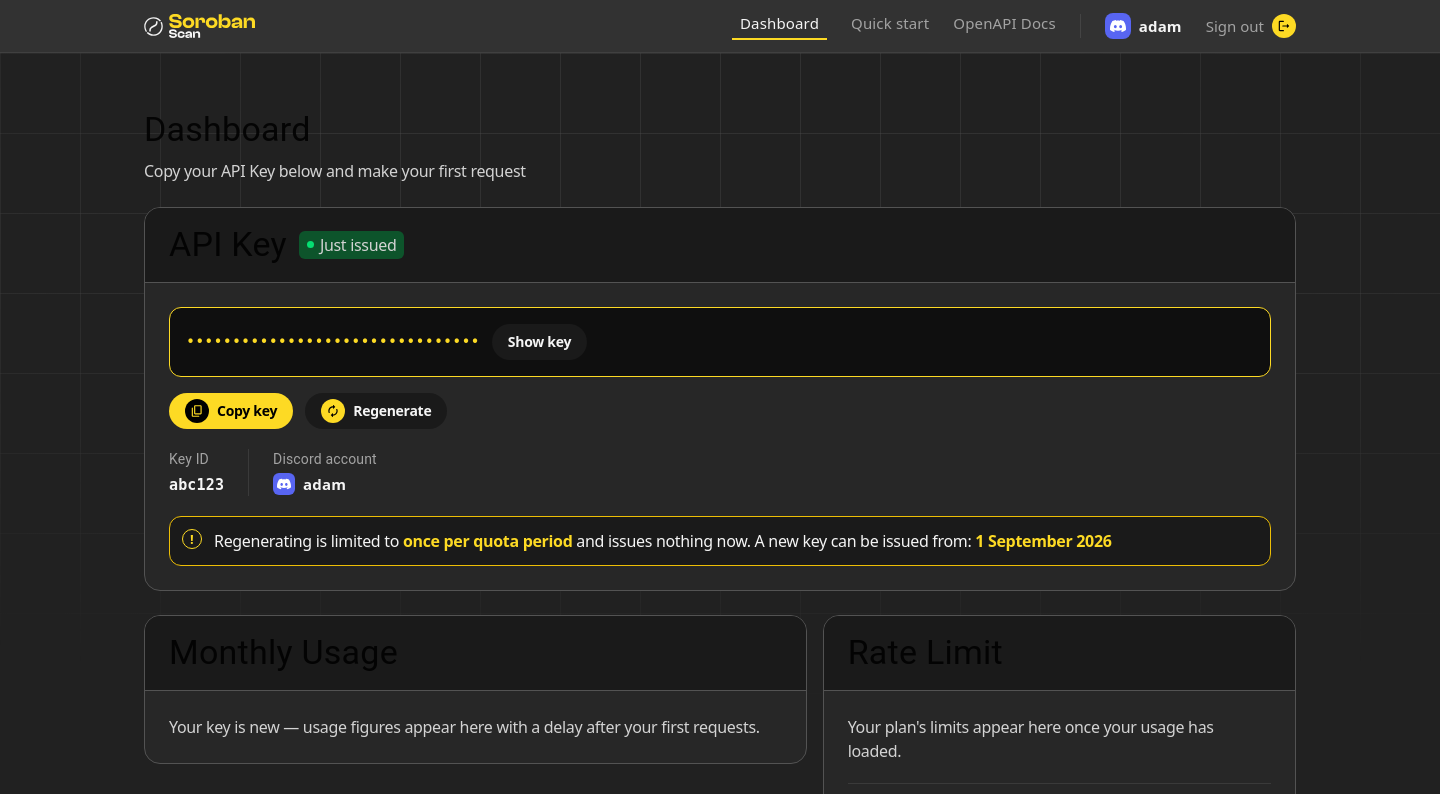
Test case: replace my key › renders no partial warning on a clean revocation
This screenshot has width=1440, height=794.
Step 1. Click the button with test id "replace-key-open" → (376, 411), box [305, 393, 447, 429]
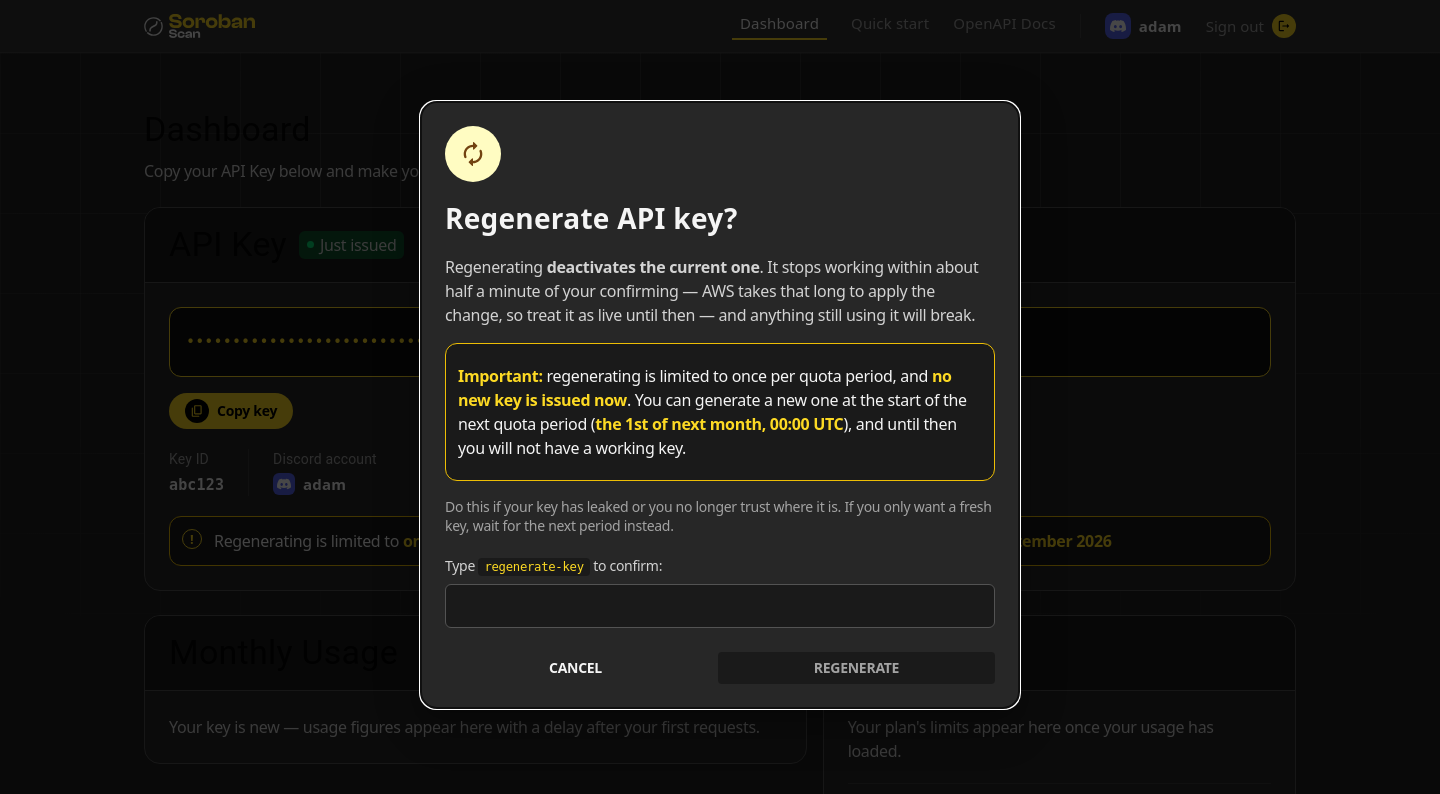
Step 2. Type "regenerate-key" into the field with test id "replace-key-phrase" → (720, 606), box [445, 584, 995, 628]
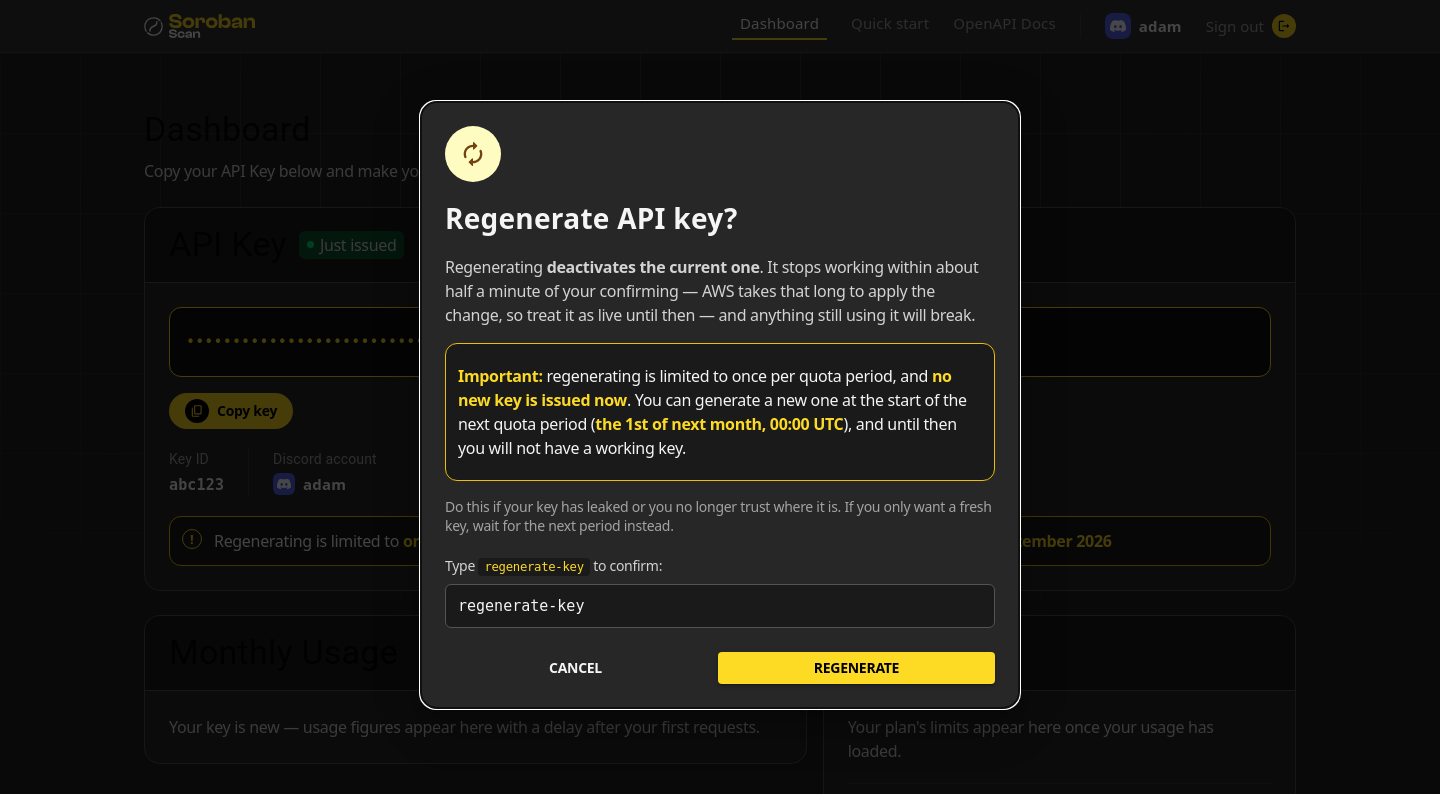
Step 3. Click the button with test id "replace-key-confirm" → (856, 668), box [718, 652, 995, 684]
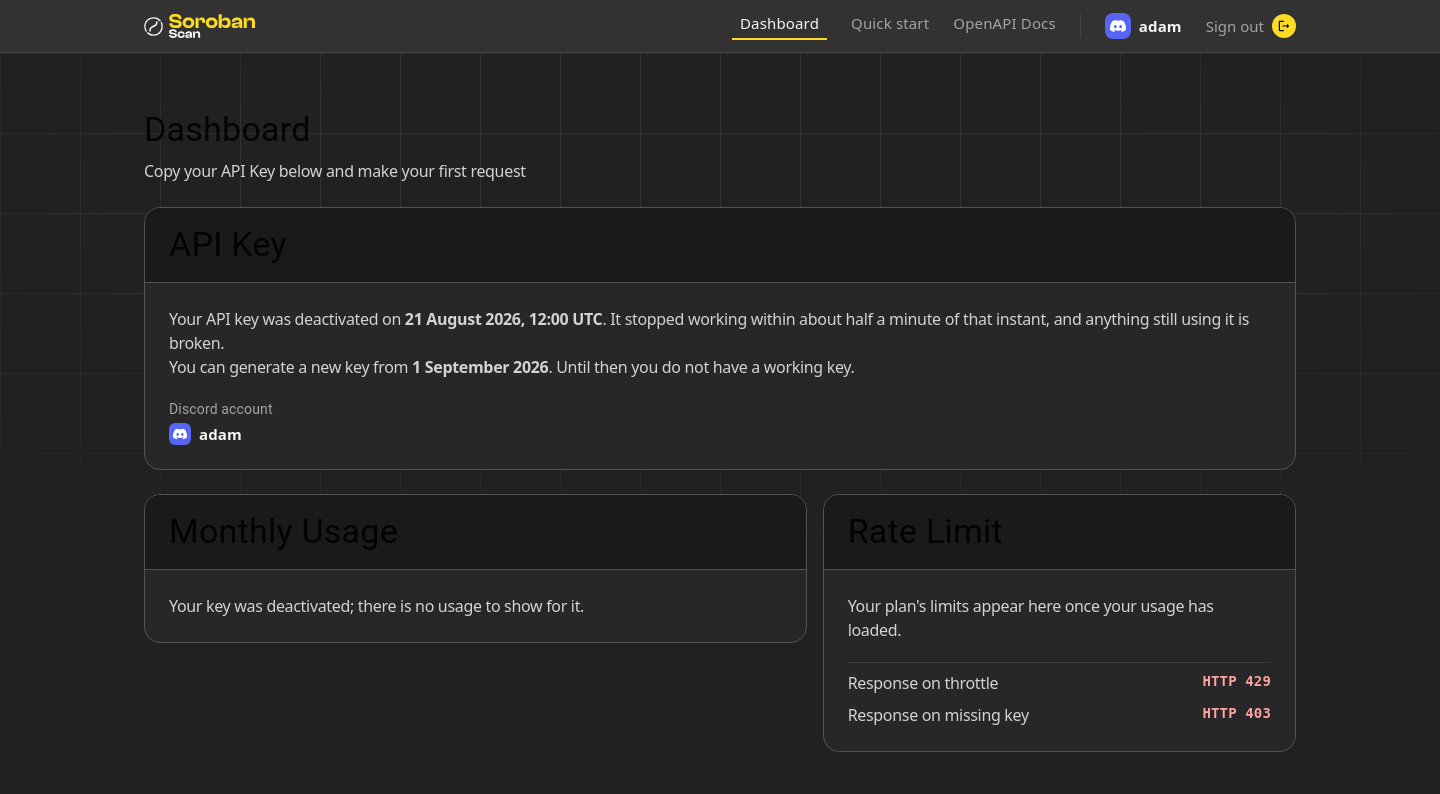
Check: the element with test id "key-revoked" is shown, box [169, 307, 1271, 379]
